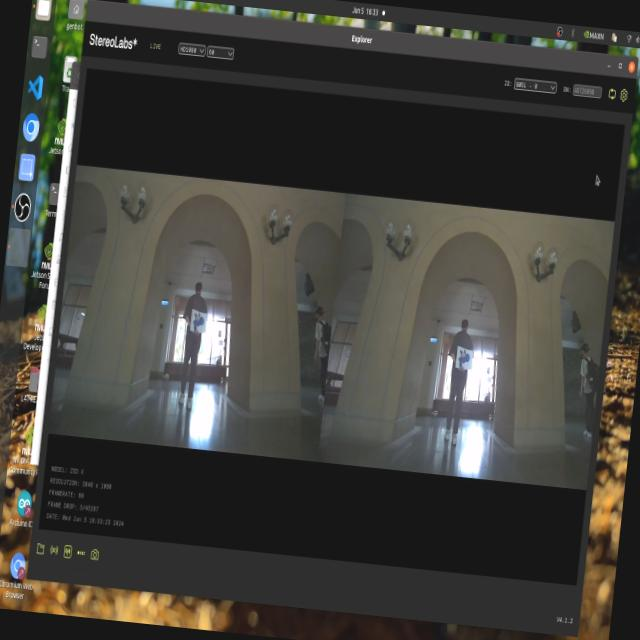blue: (191, 307, 208, 334), (456, 344, 475, 368)
